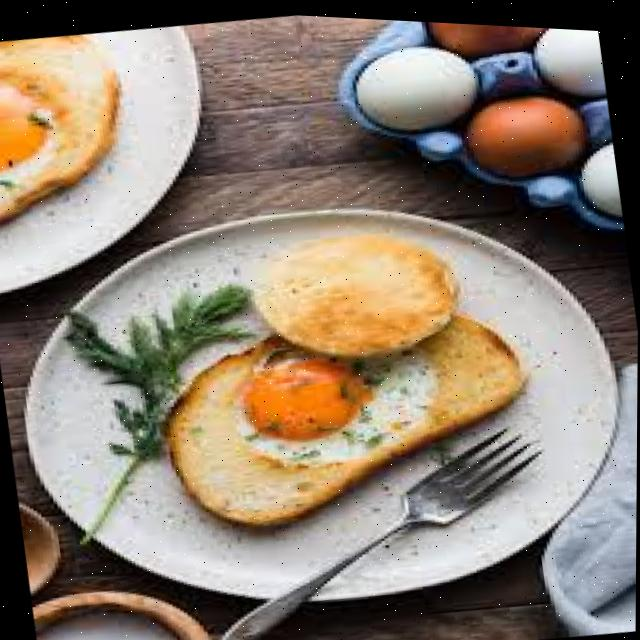Bread: (167, 311, 519, 520)
Egg: (230, 335, 435, 460), (0, 34, 114, 220)
